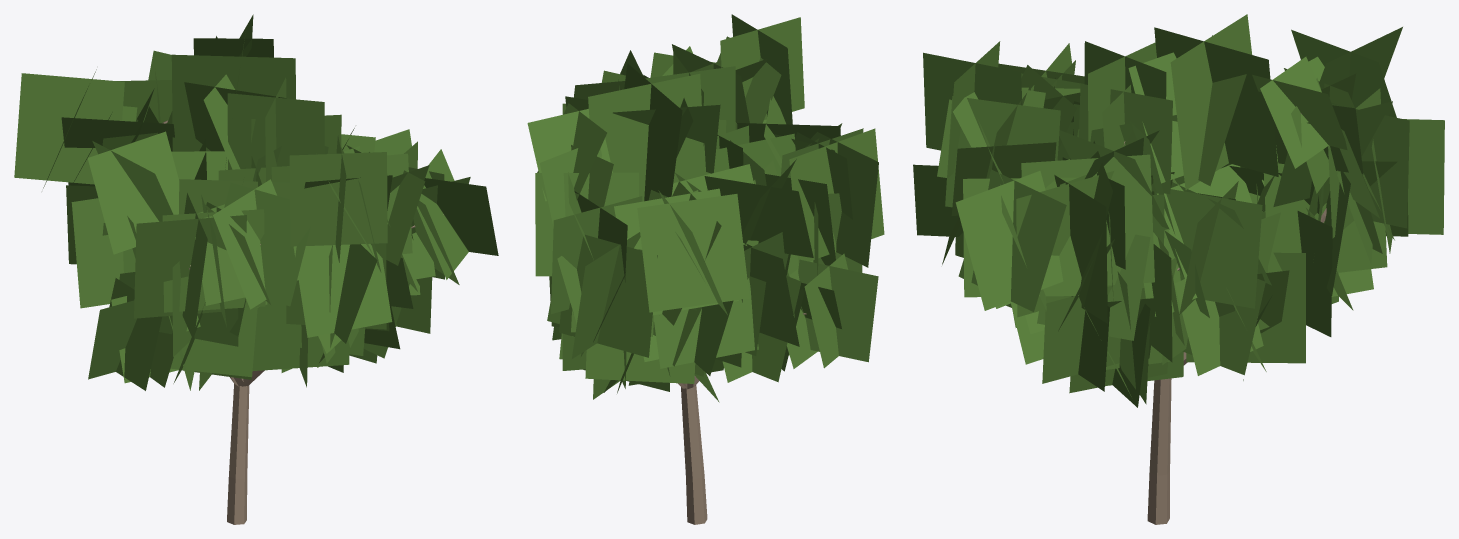
File: tree.glb
3 renders of one model, left to right at view 1: azimuth 30°, elevation 25°; view 2: azimuth 150°, elevation 25°; view 3: azimuth 270°, elevation 25°, orthographic. The views are drawn at different scales.
Visible parts, largest first — view 1: Tree; view 2: Tree; view 3: Tree.
Boxes of the visible parts, <box> form: Tree: <box>14,14,498,524</box>; Tree: <box>527,14,884,524</box>; Tree: <box>913,14,1444,524</box>.
Bounding box in the file's own units: 8.05 × 9.89 × 9.67.
